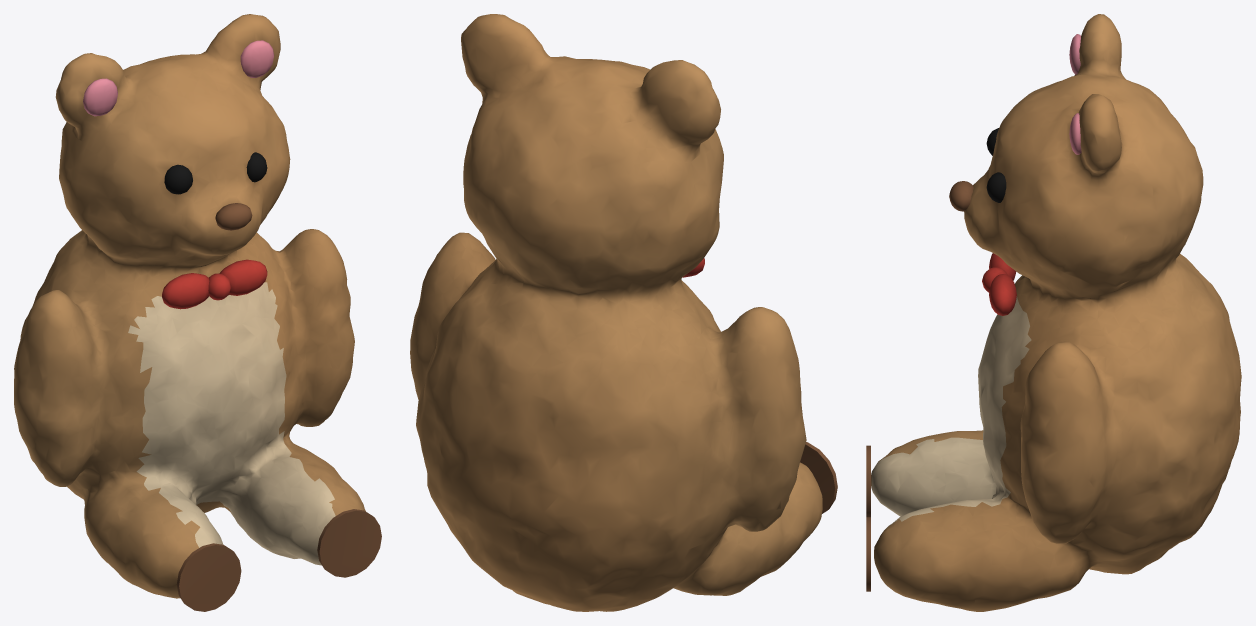
The model's file is den_teddy.glb.
3 views of the same model, side by side, from view 1: azimuth 30°, elevation 25°; view 2: azimuth 150°, elevation 25°; view 3: azimuth 270°, elevation 25° (orthographic). The views are drawn at different scales.
Visible parts, largest first — view 1: den_teddy; view 2: den_teddy; view 3: den_teddy.
Part boxes in pixels (bbox=[...]): den_teddy: bbox=[14, 14, 381, 611]; den_teddy: bbox=[410, 14, 837, 611]; den_teddy: bbox=[866, 14, 1241, 611].
Bounding box in the file's own units: 16.91 × 24.16 × 16.04.
